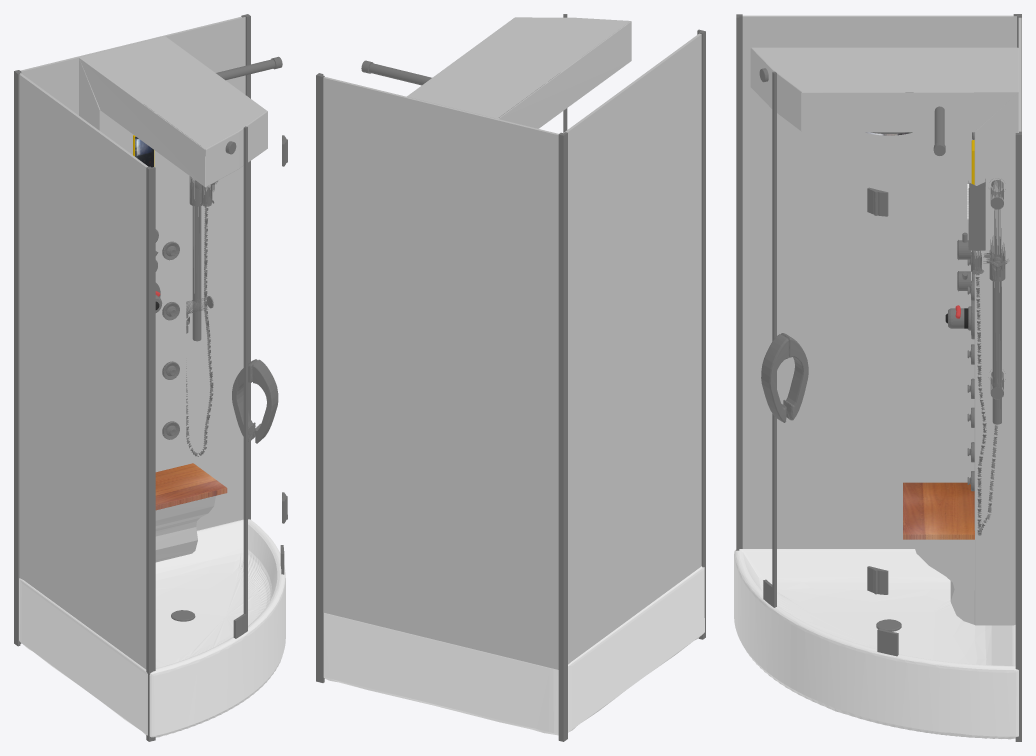
Rendered from GU830-CABINA.glb.
The picture shows the model from 3 angles, left to right: view 1: azimuth 30°, elevation 25°; view 2: azimuth 150°, elevation 25°; view 3: azimuth 270°, elevation 25°; orthographic projection. The views are drawn at different scales.
Parts seen in each view (by area): view 1: Box002, Line002, Line003, ChamferCy5, ChamferBo4, ChamferBox, ChamferBo1; view 2: Box002, Line002, Line003, ChamferCy5; view 3: Box002, Line003, Line002, ChamferCy5, ChamferBo4, ChamferBox.
Boxes of the visible parts, <box> form: Box002: <box>19,16,245,669</box>; Line002: <box>19,519,285,737</box>; Line003: <box>79,36,267,562</box>; ChamferCy5: <box>14,14,287,741</box>; ChamferBo4: <box>186,176,217,456</box>; ChamferBox: <box>155,463,227,510</box>; ChamferBo1: <box>133,135,154,167</box>; Box002: <box>323,33,701,669</box>; Line002: <box>323,566,704,735</box>; Line003: <box>407,17,631,128</box>; ChamferCy5: <box>316,14,705,741</box>; Box002: <box>742,15,1021,548</box>; Line003: <box>750,47,1018,625</box>; Line002: <box>734,549,1018,739</box>; ChamferCy5: <box>736,14,1021,741</box>; ChamferBo4: <box>968,178,1009,535</box>; ChamferBox: <box>903,482,974,539</box>.
Size of the model in its own units: 0.9384 by 2.19 by 0.9388.
Materials: 13 (3 with a texture image).
